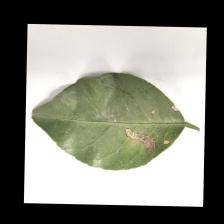canker: (94, 95, 182, 155)
